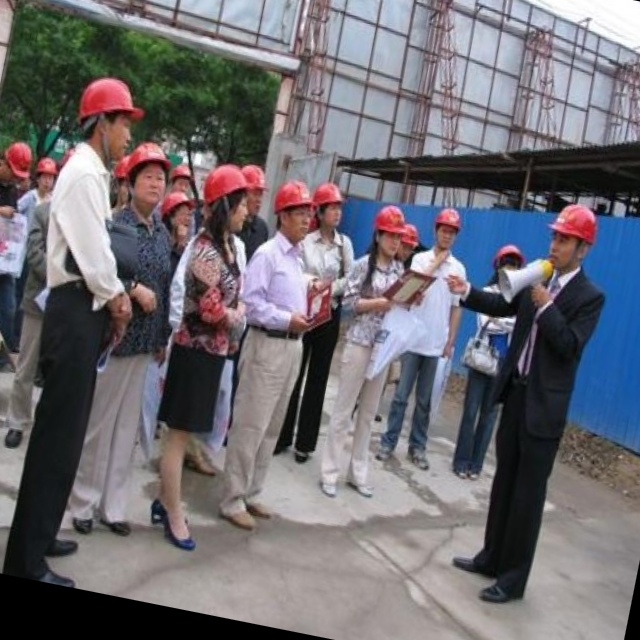Con_Casco: (80, 77, 138, 157), (544, 200, 600, 268)
